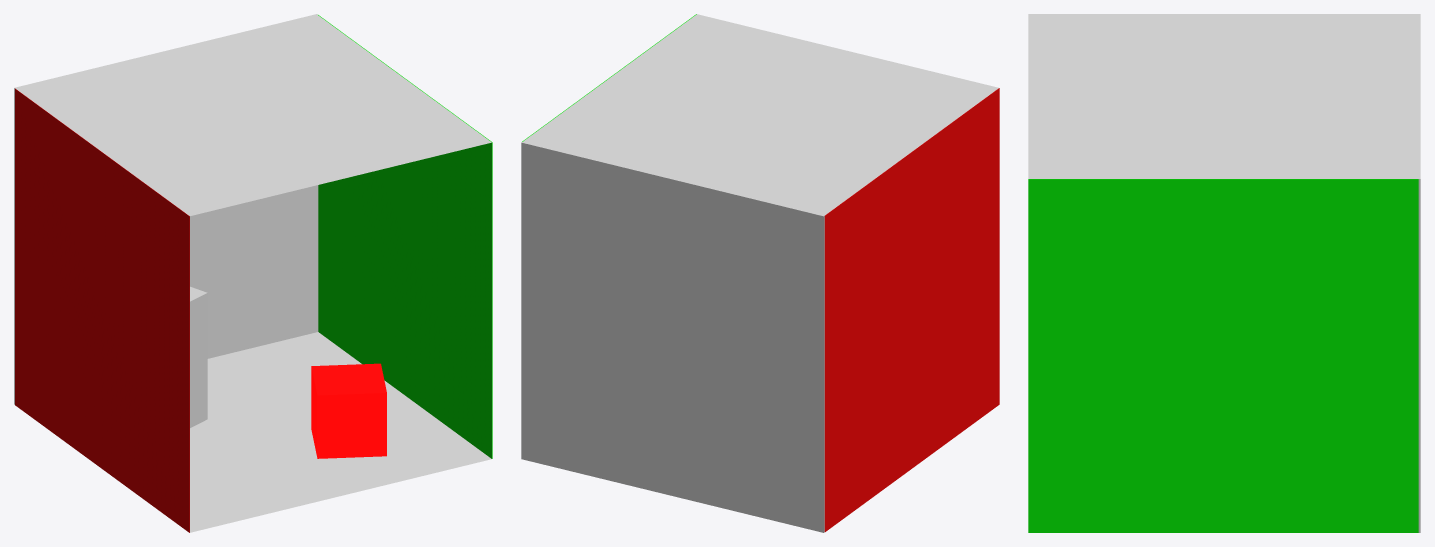
Rendered from cornell.glb.
3 views of the same model, side by side, from view 1: azimuth 30°, elevation 25°; view 2: azimuth 150°, elevation 25°; view 3: azimuth 270°, elevation 25° (orthographic). The views are drawn at different scales.
Visible parts, largest first — view 1: LeftWall, Ceiling, RightWall, Floor, BackWall, SmallBox, TallBox; view 2: BackWall, LeftWall, Ceiling; view 3: RightWall, Ceiling, BackWall.
Boxes of the visible parts, box(x1,y1,x2,y2) form: LeftWall: box(15, 88, 189, 532); Ceiling: box(15, 15, 491, 215); RightWall: box(318, 15, 492, 458); Floor: box(190, 332, 491, 532); BackWall: box(14, 14, 318, 404); SmallBox: box(311, 363, 386, 458); TallBox: box(190, 286, 207, 427); BackWall: box(521, 141, 824, 532); LeftWall: box(824, 88, 999, 531); Ceiling: box(524, 14, 998, 215); RightWall: box(1028, 179, 1418, 532); Ceiling: box(1028, 14, 1418, 178); BackWall: box(1416, 14, 1420, 532).
Size of the model in its own units: 10.02 by 10 by 10.05.
